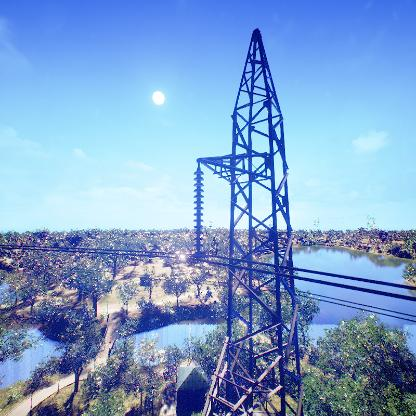insulator: (191, 170, 206, 252)
